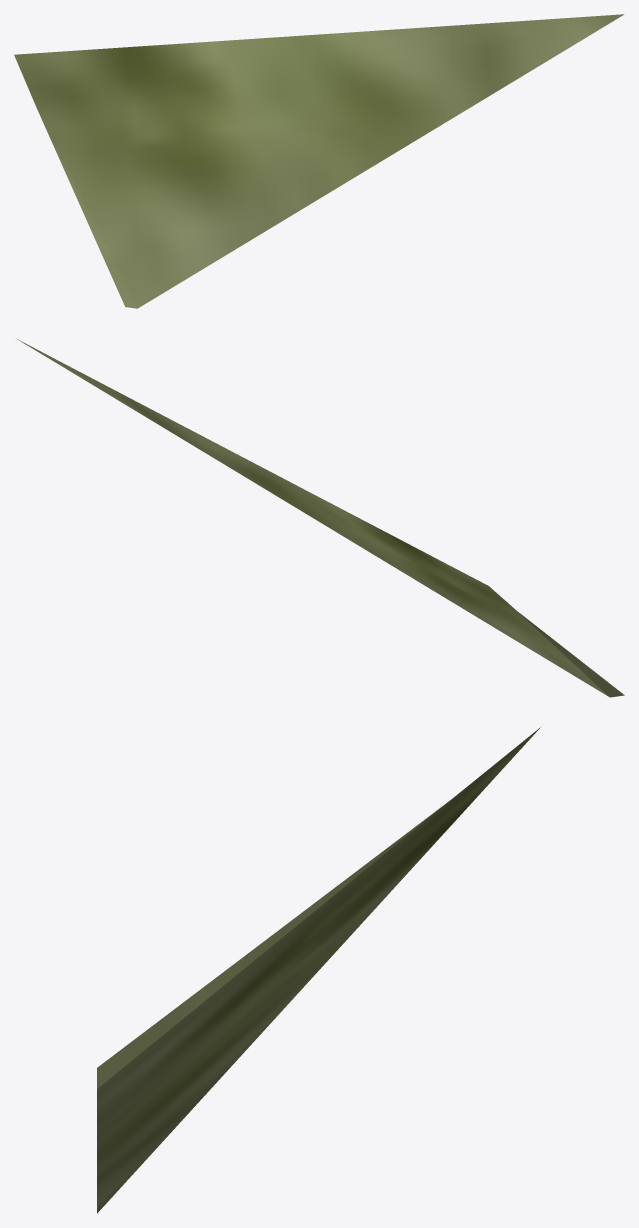
3 renders of one model, top to bottom at view 1: azimuth 30°, elevation 25°; view 2: azimuth 150°, elevation 25°; view 3: azimuth 270°, elevation 25°, orthographic. The views are drawn at different scales.
Bounding box in the file's own units: 0.4424 × 0.1486 × 0.1706.
1 material, 1 textured.
